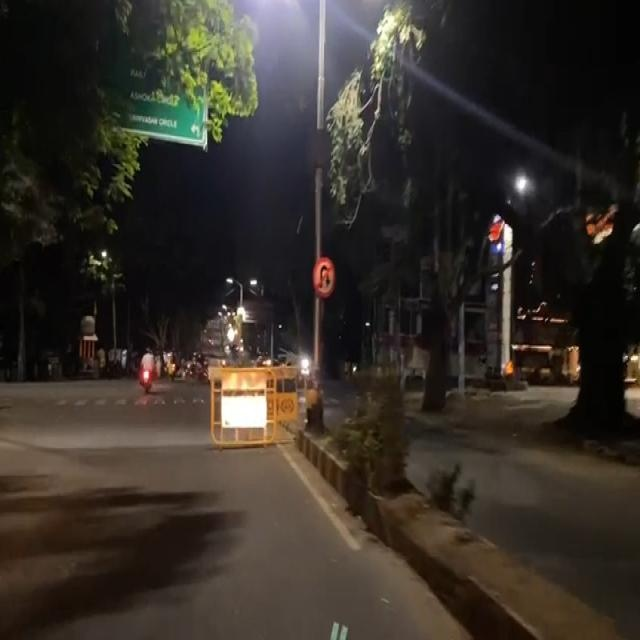bien_cam: (312, 252, 336, 300)
